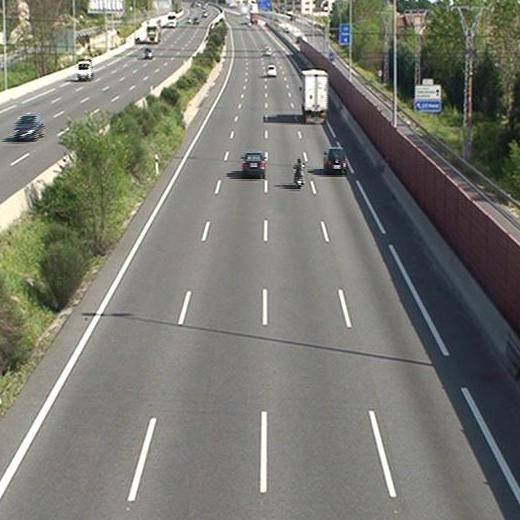car: (324, 148, 347, 174), (242, 153, 264, 176), (266, 65, 276, 77), (262, 48, 270, 57)
motorcycle: (293, 158, 305, 188)
small-truck: (302, 71, 328, 122)
